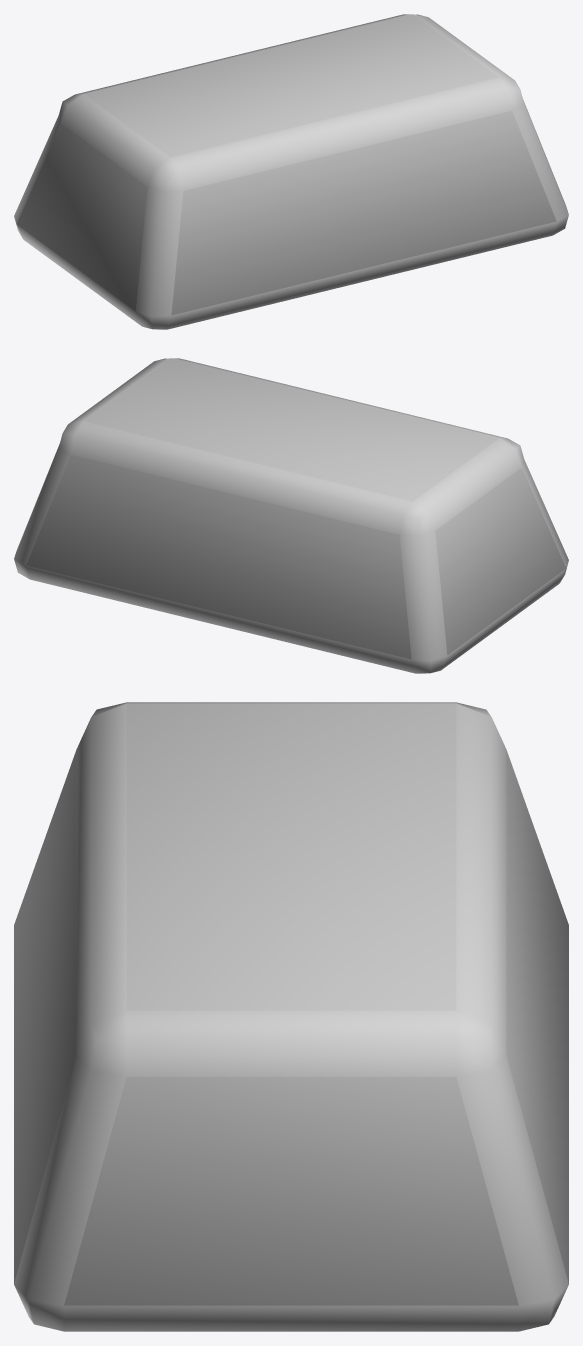
The model's file is stone_7.fbx.
3 views of the same model, one above another, from view 1: azimuth 30°, elevation 25°; view 2: azimuth 150°, elevation 25°; view 3: azimuth 270°, elevation 25° (orthographic). The views are drawn at different scales.
Parts seen in each view (by area): view 1: stone_7; view 2: stone_7; view 3: stone_7.
Part boxes in pixels (left/top/right/bottom): stone_7: left=14, top=14, right=568, bottom=329; stone_7: left=14, top=358, right=568, bottom=673; stone_7: left=14, top=702, right=568, bottom=1331.
Bounding box in the file's own units: 109 × 37.24 × 63.93.
